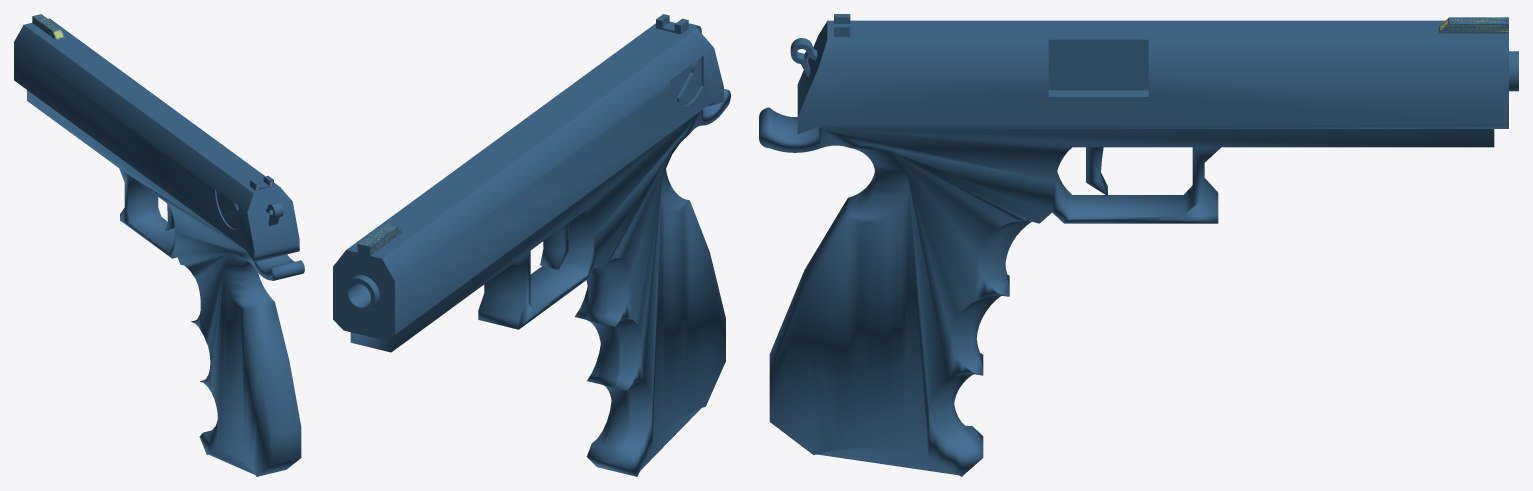
3 views of the same model, side by side, from view 1: azimuth 30°, elevation 25°; view 2: azimuth 150°, elevation 25°; view 3: azimuth 270°, elevation 25° (orthographic). The views are drawn at different scales.
Parts seen in each view (by area): view 1: mesh1_mesh1-geometry; view 2: mesh1_mesh1-geometry; view 3: mesh1_mesh1-geometry.
Part boxes in pixels (box(x1,y1,x2,y2)): mesh1_mesh1-geometry: box(14, 14, 304, 476); mesh1_mesh1-geometry: box(333, 14, 730, 476); mesh1_mesh1-geometry: box(759, 14, 1518, 476).
Size of the model in its own units: 0.0863 by 0.5412 by 0.8365.
